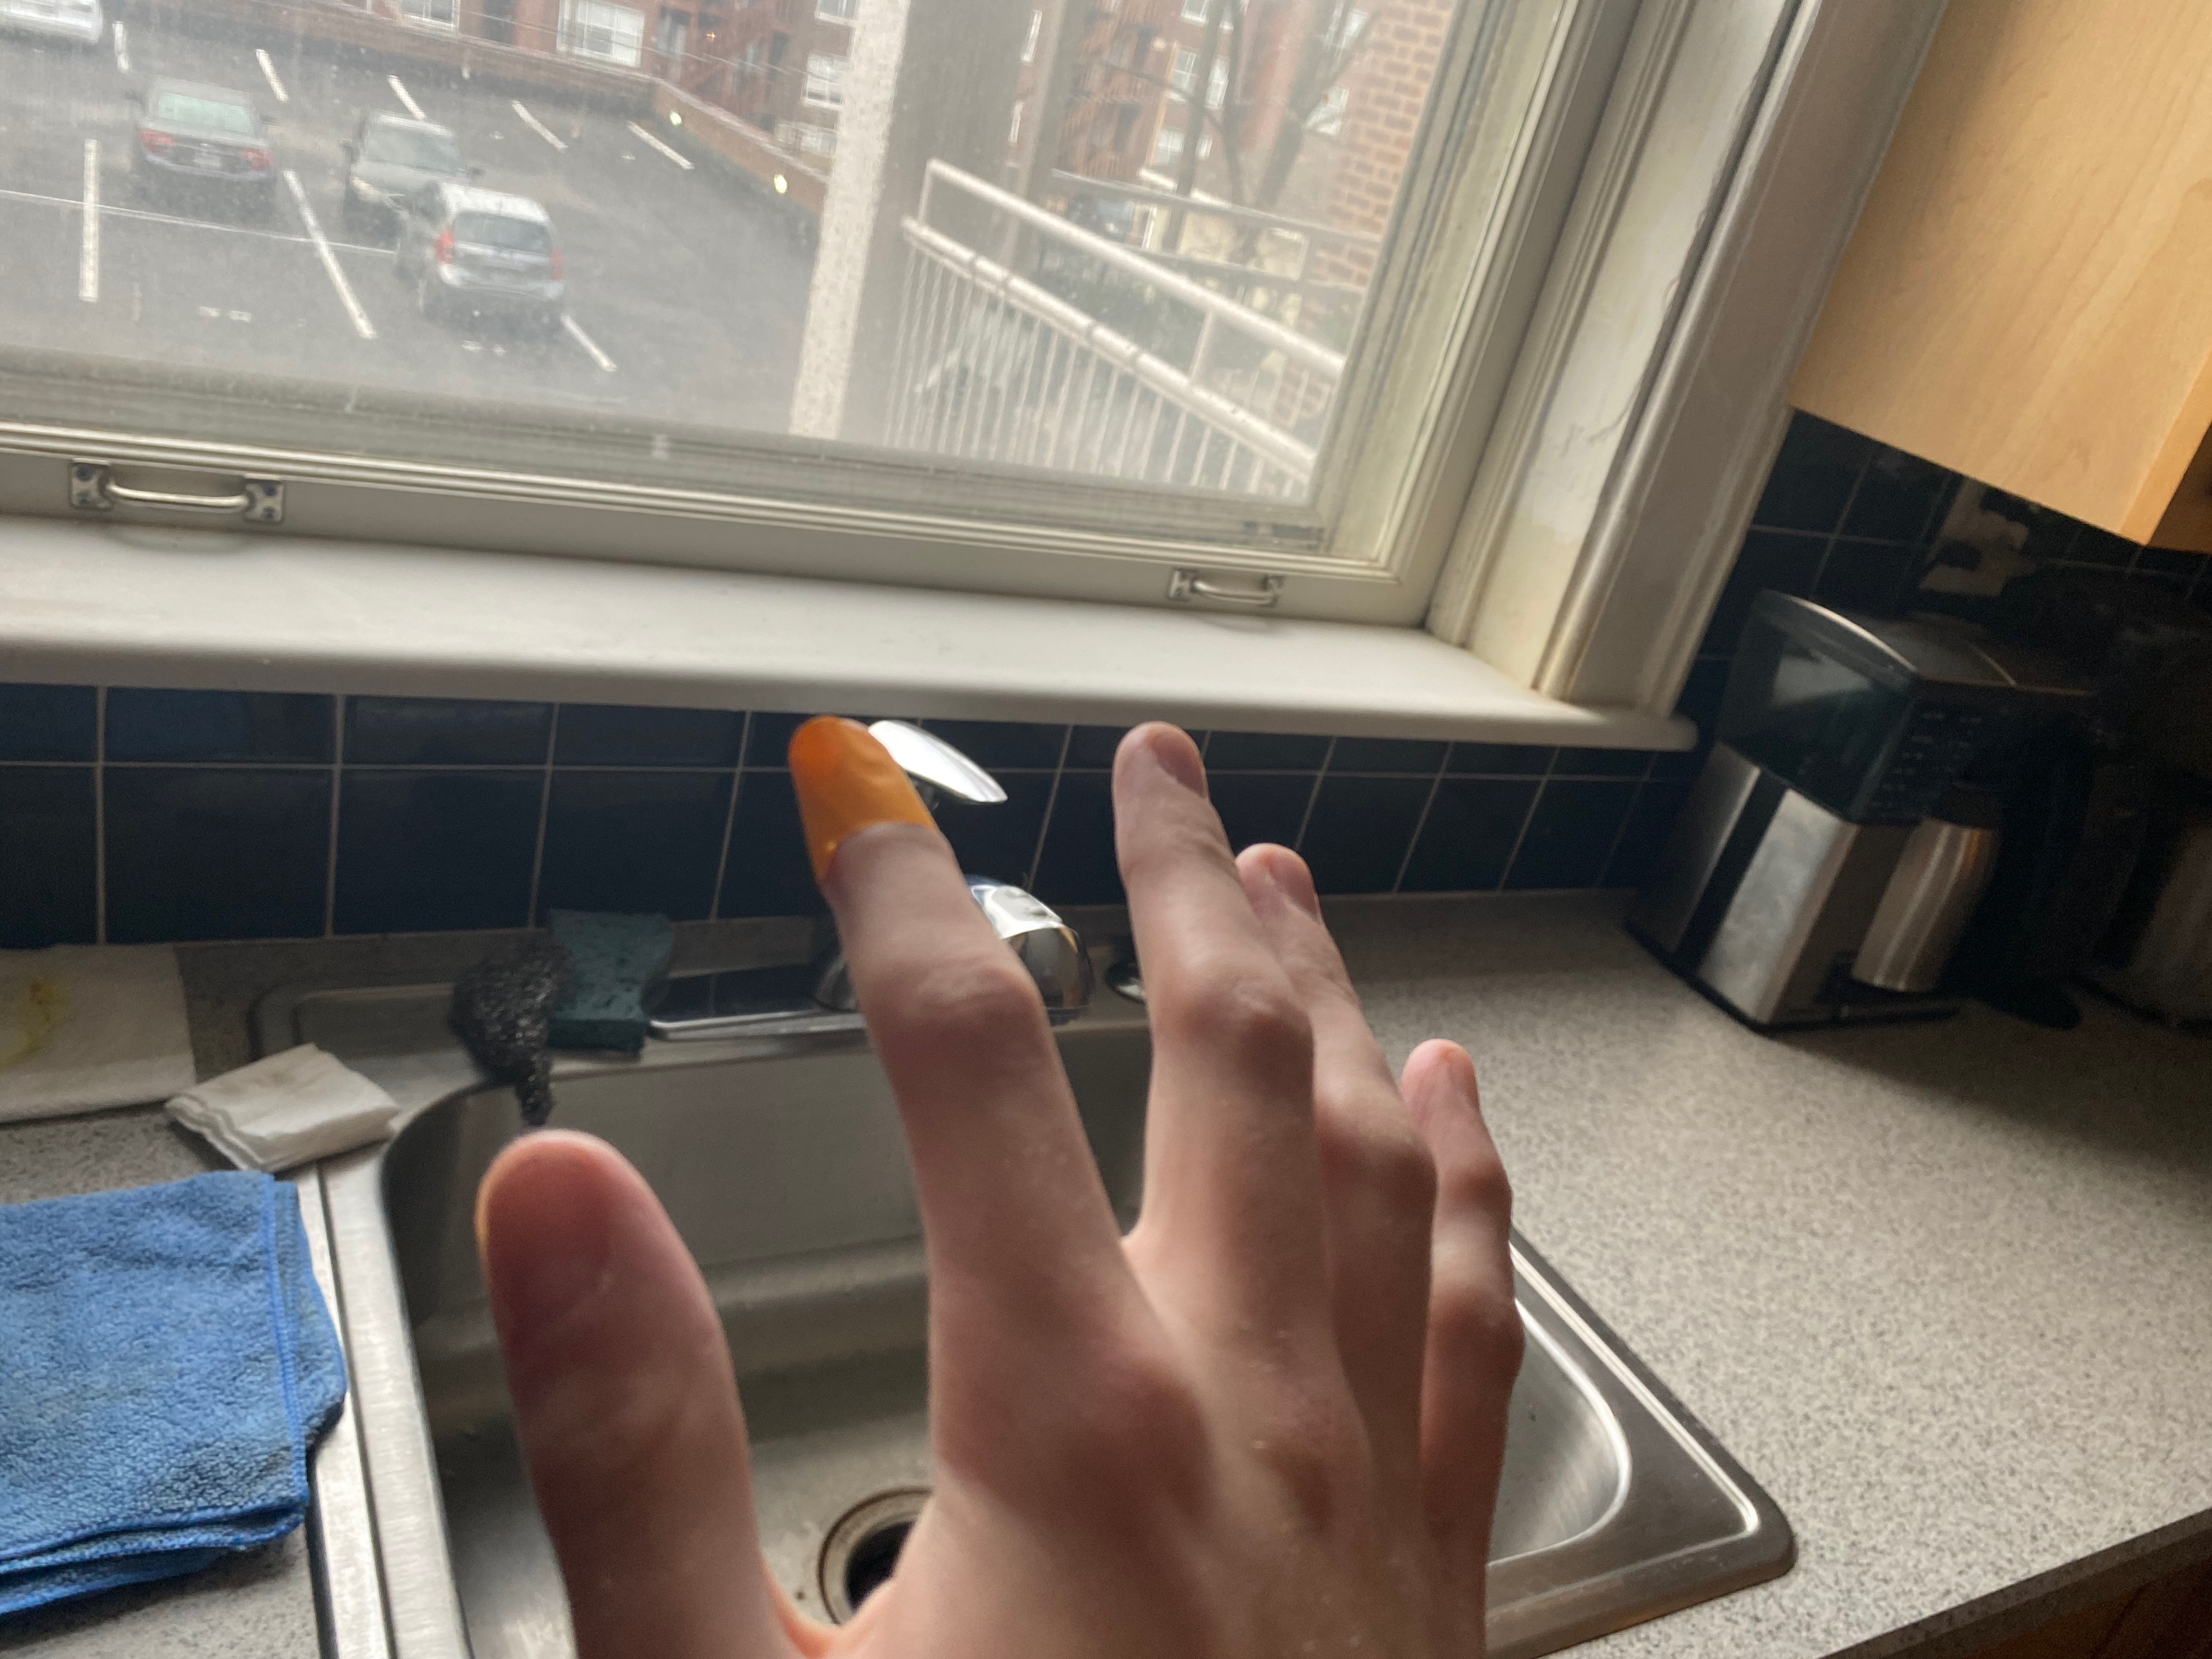fingertip: (772, 714, 961, 894)
